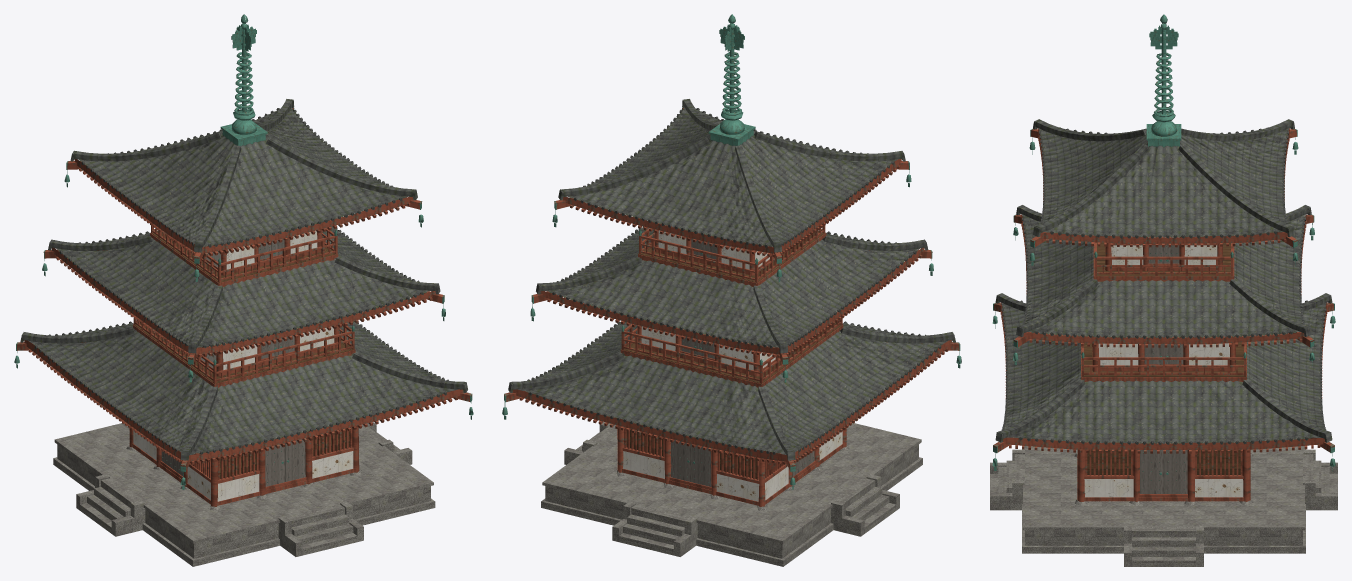
File: Pagoda-progressive.preview.glb
3 renders of one model, left to right at view 1: azimuth 30°, elevation 25°; view 2: azimuth 150°, elevation 25°; view 3: azimuth 270°, elevation 25°, orthographic.
Visible parts, largest first — view 1: Roof 1, Roof 3, Platform, Roof 2, Storey 1, Storey 2, Storey 3, Finial; view 2: Roof 1, Roof 3, Platform, Roof 2, Storey 1, Storey 2, Storey 3, Finial; view 3: Roof 1, Roof 3, Platform, Roof 2, Storey 1, Storey 2, Storey 3, Finial.
Part boxes in pixels (x1,y1,x2,y2): Roof 1: [14, 321, 473, 489]; Roof 3: [64, 99, 423, 281]; Platform: [53, 422, 435, 566]; Roof 2: [42, 226, 445, 382]; Storey 1: [129, 426, 359, 506]; Storey 2: [133, 318, 355, 387]; Storey 3: [150, 225, 338, 286]; Finial: [220, 14, 267, 145]; Roof 1: [502, 320, 961, 489]; Roof 3: [552, 99, 911, 281]; Platform: [541, 422, 922, 566]; Roof 2: [530, 226, 933, 382]; Storey 1: [617, 426, 846, 506]; Storey 2: [620, 318, 843, 387]; Storey 3: [638, 223, 826, 286]; Finial: [708, 14, 755, 145]; Roof 1: [992, 293, 1335, 471]; Roof 3: [1029, 119, 1298, 265]; Platform: [990, 438, 1337, 566]; Roof 2: [1013, 205, 1314, 365]; Storey 1: [1077, 449, 1250, 501]; Storey 2: [1081, 342, 1246, 382]; Storey 3: [1093, 235, 1234, 281]; Finial: [1146, 14, 1181, 146].
Bounding box in the file's own units: 13.52 × 20.57 × 13.52.
Materials: 11 (11 with a texture image).
